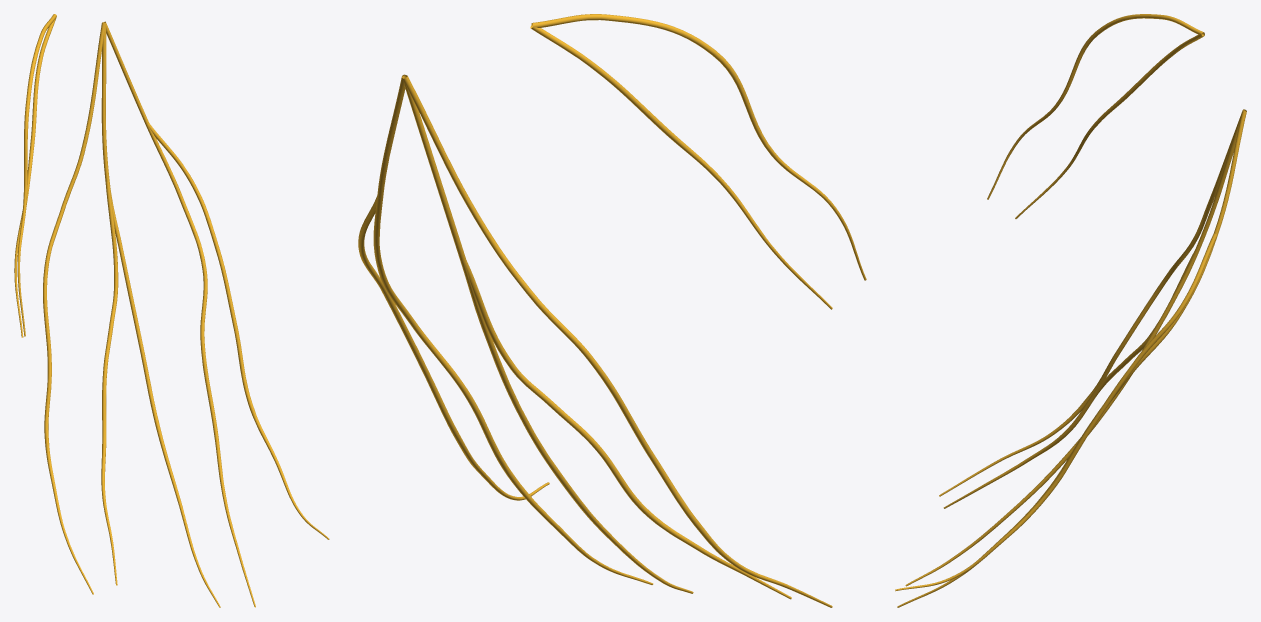
The model's file is nervoso-dorsal-digital-branches-of-radial-nerve-r.glb.
The picture shows the model from 3 angles, left to right: view 1: azimuth 30°, elevation 25°; view 2: azimuth 150°, elevation 25°; view 3: azimuth 270°, elevation 25°; orthographic projection. The views are drawn at different scales.
Parts seen in each view (by area): view 1: Dorsal digital branches of radial nerve.r; view 2: Dorsal digital branches of radial nerve.r; view 3: Dorsal digital branches of radial nerve.r.
Part boxes in pixels (box(x1,y1,x2,y2)): Dorsal digital branches of radial nerve.r: box(14, 14, 329, 607); Dorsal digital branches of radial nerve.r: box(358, 14, 866, 607); Dorsal digital branches of radial nerve.r: box(895, 14, 1246, 607).
Size of the model in its own units: 0.0721 by 0.1326 by 0.0774.
